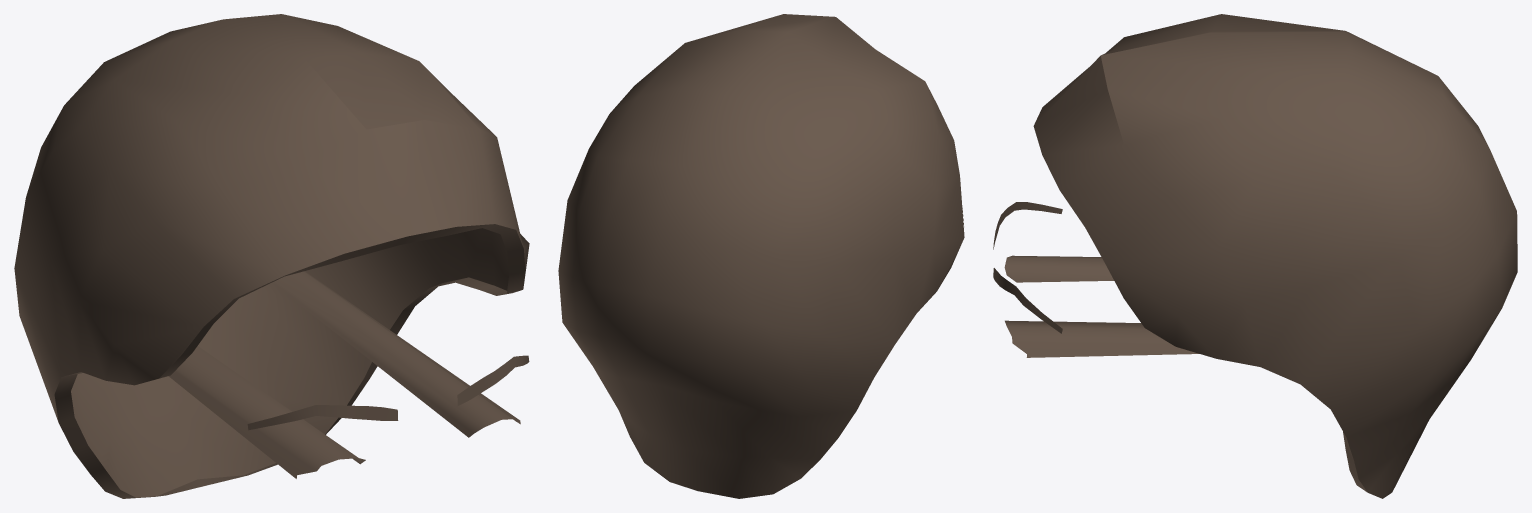
File: hair_m1.glb
3 renders of one model, left to right at view 1: azimuth 30°, elevation 25°; view 2: azimuth 150°, elevation 25°; view 3: azimuth 270°, elevation 25°, orthographic. The views are drawn at different scales.
Parts seen in each view (by area): view 1: Hair_m1; view 2: Hair_m1; view 3: Hair_m1.
Boxes of the visible parts, x1,y1,x2,y2 form: Hair_m1: (14,14,529,498); Hair_m1: (558,14,964,498); Hair_m1: (993,14,1517,498).
Bounding box in the file's own units: 0.1965 × 0.2283 × 0.2464.
